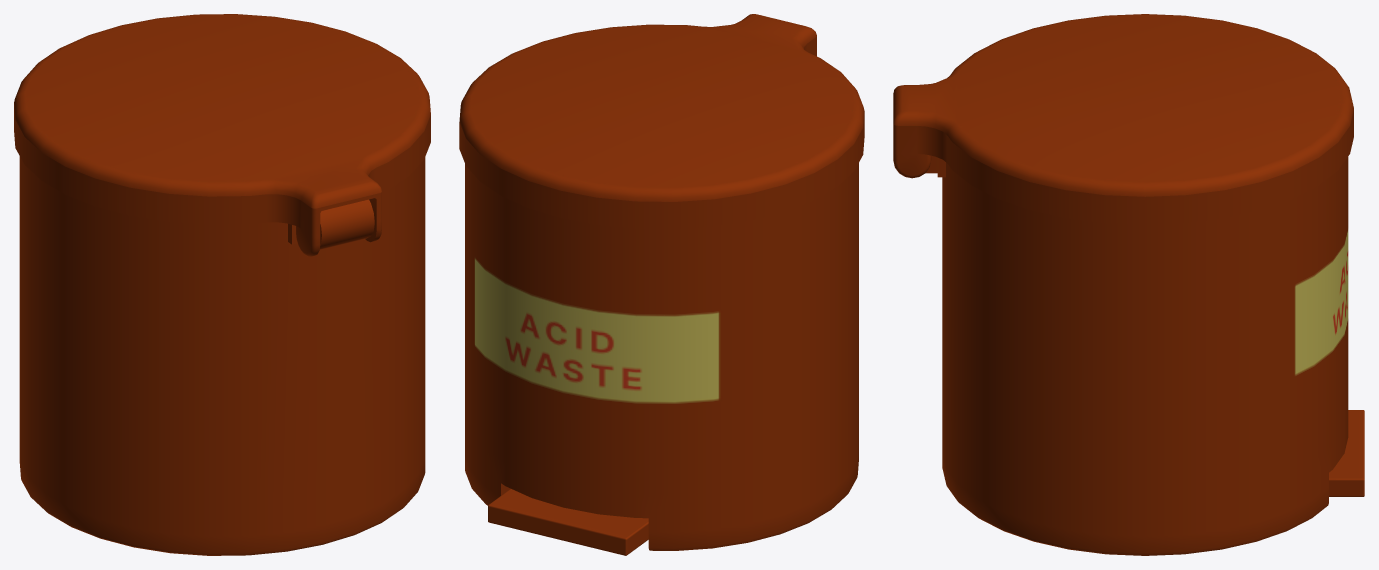
The model's file is TrashCan.fbx.
3 views of the same model, side by side, from view 1: azimuth 30°, elevation 25°; view 2: azimuth 150°, elevation 25°; view 3: azimuth 270°, elevation 25° (orthographic). The views are drawn at different scales.
Parts seen in each view (by area): view 1: trash_bin, Lid; view 2: trash_bin, Lid, Cutter; view 3: trash_bin, Lid, Cutter.
Part boxes in pixels (box(x1,y1,x2,y2)): trash_bin: box(19, 156, 425, 555); Lid: box(14, 14, 430, 256); trash_bin: box(465, 163, 858, 550); Lid: box(459, 14, 864, 229); Cutter: box(488, 489, 648, 555); trash_bin: box(926, 155, 1348, 555); Lid: box(893, 14, 1353, 224); Cutter: box(1329, 410, 1364, 496).
Size of the model in its own units: 41.11 by 40.56 by 46.4.
